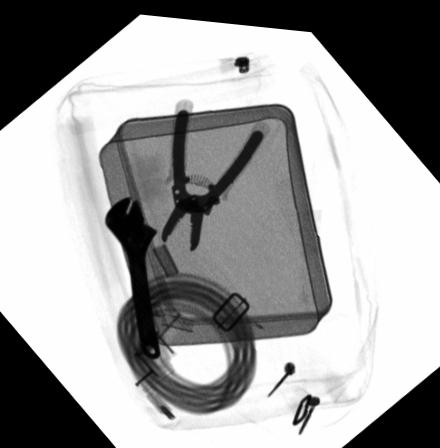Pliers: (159, 93, 272, 248)
Wrench: (104, 189, 160, 357)
